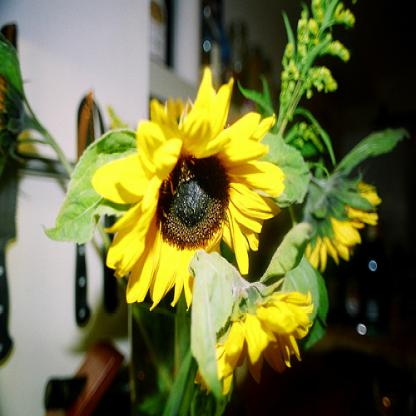SUN FLOWER: (90, 25, 359, 386)
